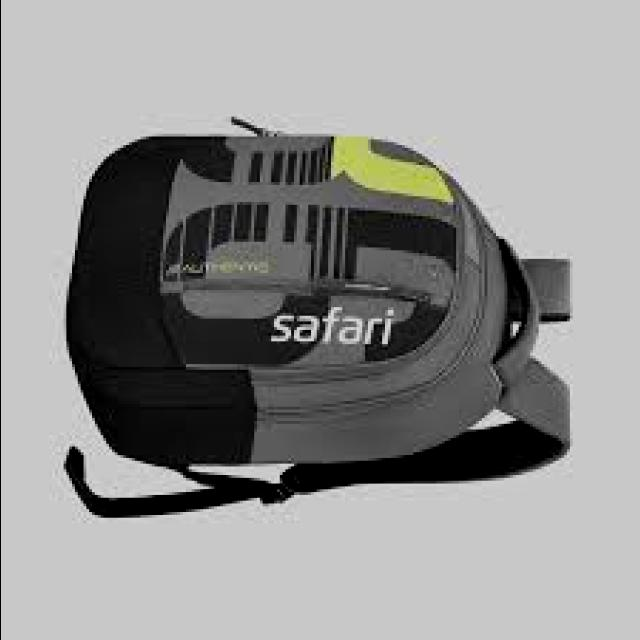backpack: (64, 118, 576, 519)
